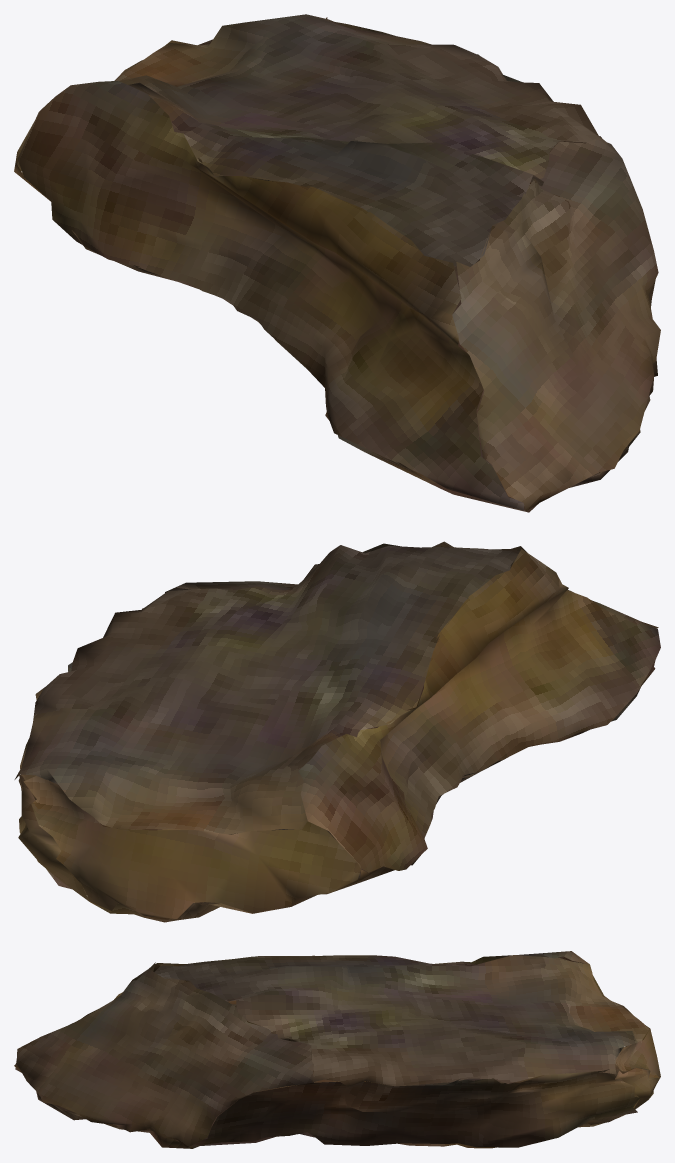
The model's file is rock_09.glb.
3 views of the same model, one above another, from view 1: azimuth 30°, elevation 25°; view 2: azimuth 150°, elevation 25°; view 3: azimuth 270°, elevation 25° (orthographic). The views are drawn at different scales.
Parts seen in each view (by area): view 1: rock_09_LOD0; view 2: rock_09_LOD0; view 3: rock_09_LOD0.
Boxes of the visible parts, x1,y1,x2,y2 form: rock_09_LOD0: [14, 14, 660, 512]; rock_09_LOD0: [14, 541, 660, 922]; rock_09_LOD0: [14, 951, 660, 1148].
Size of the model in its own units: 0.0742 by 0.0334 by 0.1447.
1 material, 1 textured.
